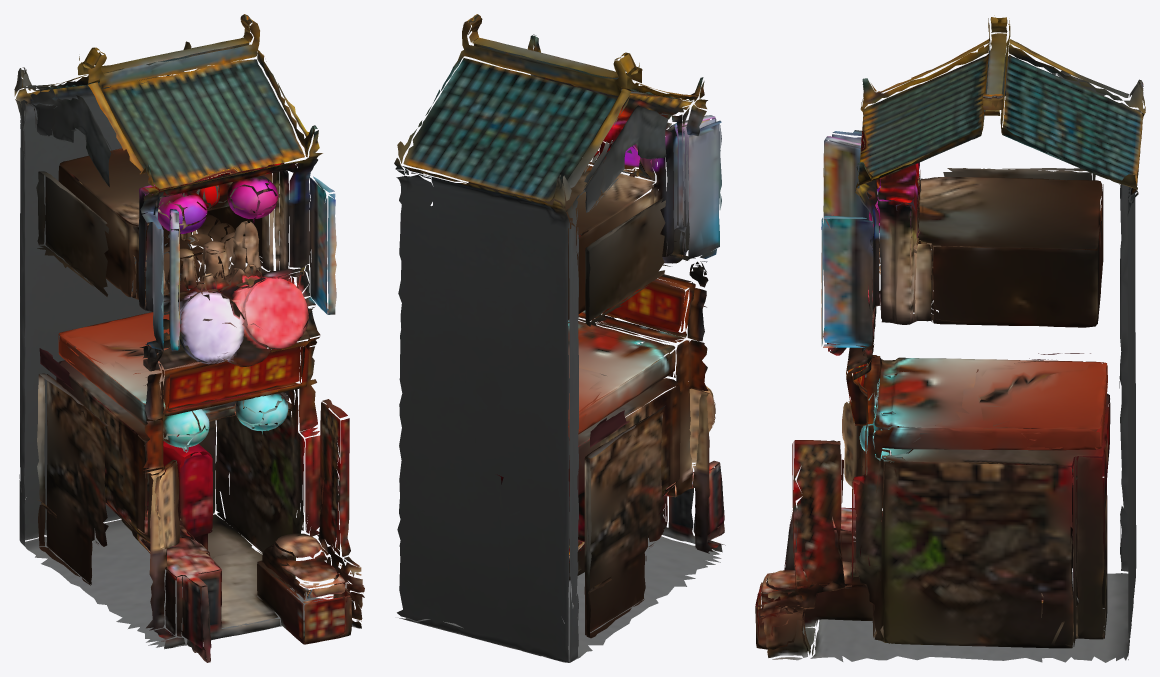
The model's file is Chinatown_House_3.obj.
The picture shows the model from 3 angles, left to right: view 1: azimuth 30°, elevation 25°; view 2: azimuth 150°, elevation 25°; view 3: azimuth 270°, elevation 25°; orthographic projection. The views are drawn at different scales.
Visible parts, largest first — view 1: model; view 2: model; view 3: model.
Boxes of the visible parts, x1,y1,x2,y2 form: model: (14,14,364,662); model: (394,14,725,662); model: (755,15,1145,662).
Bounding box in the file's own units: 0.1521 × 0.4272 × 0.2679.
Materials: 1 (1 with a texture image).
